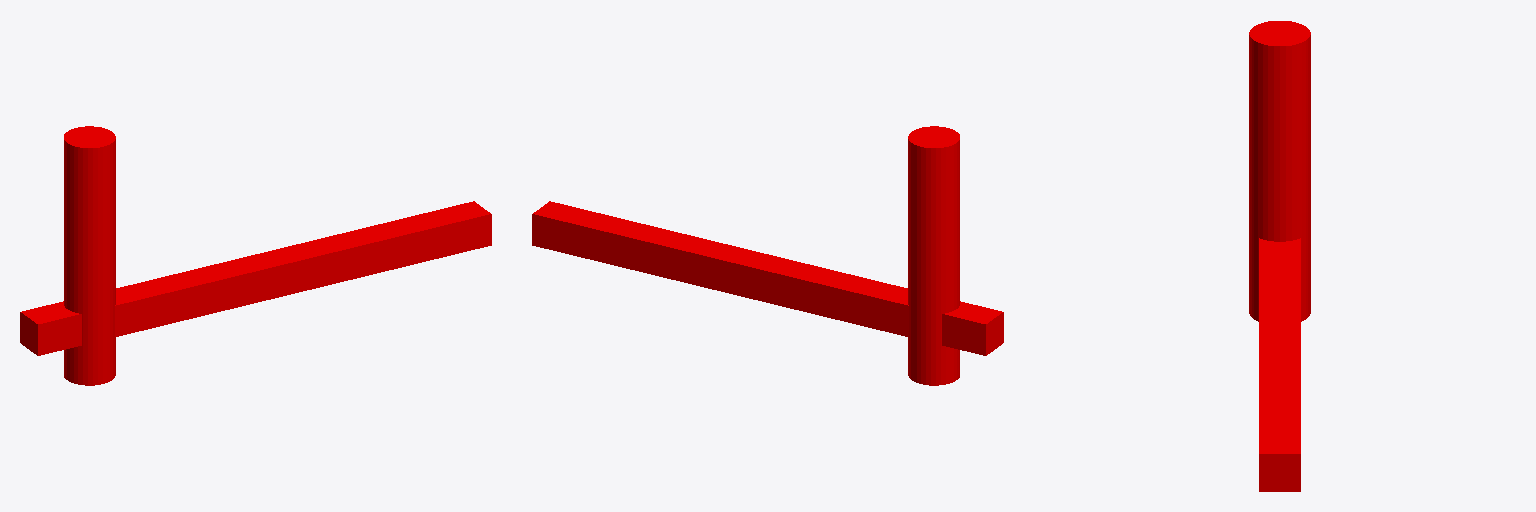
URDF robot description (barrier):
<?xml version="1.0"?>

<robot name="barrier">
    

    <material name="red">
        <color rgba="1 0 0 1" />
    </material>

    <link name="body_link">

        <inertial>
            <origin rpy="0 0 0" xyz="0 0 0.75" />
            <mass value="100000.0" />
            <inertia ixx="0.0" ixy="0.0" ixz="0.0"
            iyy="0.0" iyz="0.0" izz="0.0" />

        </inertial>

        <visual>        
            <origin rpy="0 0 0" xyz="0 0 0.75" />
            <geometry>
                <cylinder radius="0.15" length="1.5" />
            </geometry>
            <material name="red"/>
        </visual>

        <collision>
            <origin rpy="0 0 0" xyz="0 0 0.75" />
            <geometry>
                <cylinder radius="0.15" length="1.5" />
            </geometry>
        </collision>

    </link>

     <link name="arm_link">
        <inertial>
            <origin rpy="0 0 0" xyz="1.1 0 0.35" />
            <mass value="5.0" />

            <inertia ixx="3.751666667" ixy="0.0" ixz="0.0"
            iyy="3.751666667" iyz="0.0" izz="3.751666667" />
        </inertial>
        <visual>        
            <origin rpy="0 0 0" xyz="1.1 0 0.35" />
            <geometry>
                <box size="3 0.2 0.2" />
            </geometry>
            <material name="red"/>
        </visual>
        <collision>
            <origin rpy="0 0 0" xyz="1.1 0 0.35" />
            <geometry>
             <box size="3 0.2 0.2" />
            </geometry>
        </collision>
    </link>

    <joint name="body_to_arm" type="revolute">
        <parent link="body_link" />
        <child link="arm_link" />
        <dynamics damping="0.0" friction="0.00001" />
        <origin xyz="0 0 0" />
        <axis xyz="0 0 1" />

        <limit lower="-3" upper="3" effort="5.0" velocity="0.5" />
    </joint>

   

    



</robot>

--- Render facts (derived) ---
3 views of the same robot in one strip: view 1: azimuth 30°, elevation 25°; view 2: azimuth 150°, elevation 25°; view 3: azimuth 270°, elevation 25° (orthographic).
Model barrier with 2 links and 1 joints (1 revolute), rooted at body_link, posed every joint at zero.
Visible links, largest first — view 1: arm_link, body_link; view 2: arm_link, body_link; view 3: body_link, arm_link.
Link boxes in pixels (box(x1,y1,x2,y2)): arm_link: box(20, 201, 491, 355); body_link: box(64, 126, 115, 385); arm_link: box(532, 201, 1003, 355); body_link: box(908, 126, 959, 385); body_link: box(1249, 21, 1310, 321); arm_link: box(1259, 238, 1300, 491).
Size in the robot's own frame: 3 by 0.3 by 1.5 metres.
Geometry: primitives only (box / cylinder / sphere), no mesh files.